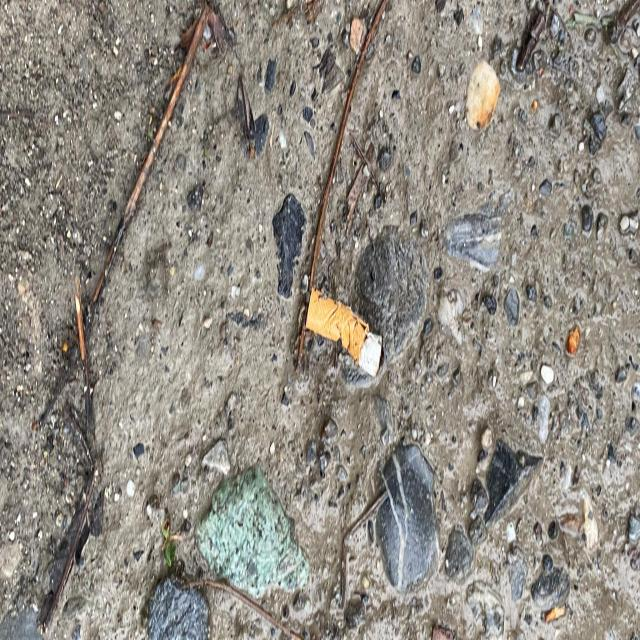other waste: (305, 285, 382, 378)
